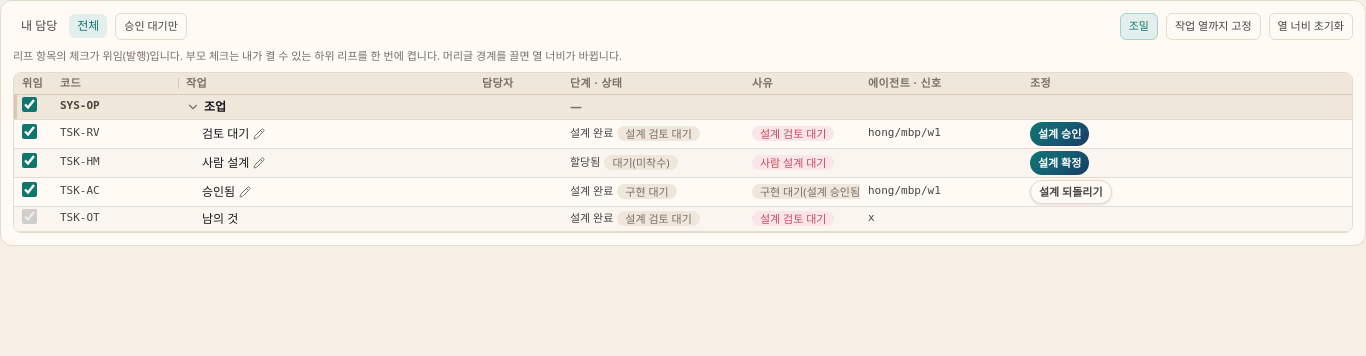
Test: DelegationTable — 설계 문구·설계 버튼(설계 상태 스펙 3절·7절) › 실패는 그 행 아래 오류로 보이고, 되돌리기 입력 줄은 닫지 않는다
Click the button "설계 되돌리기" at (1071, 192), box [1030,180,1112,204]
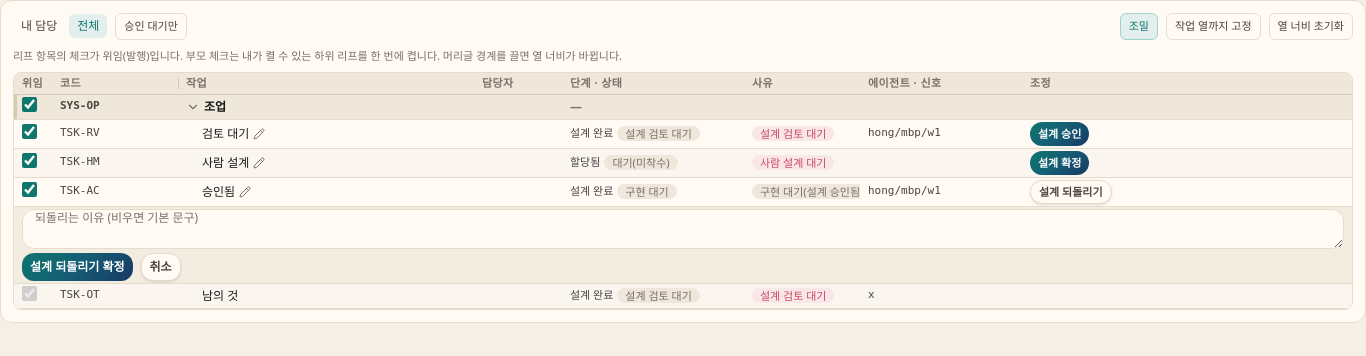
Click the button "설계 되돌리기 확정" at (77, 266), box [22,252,133,280]
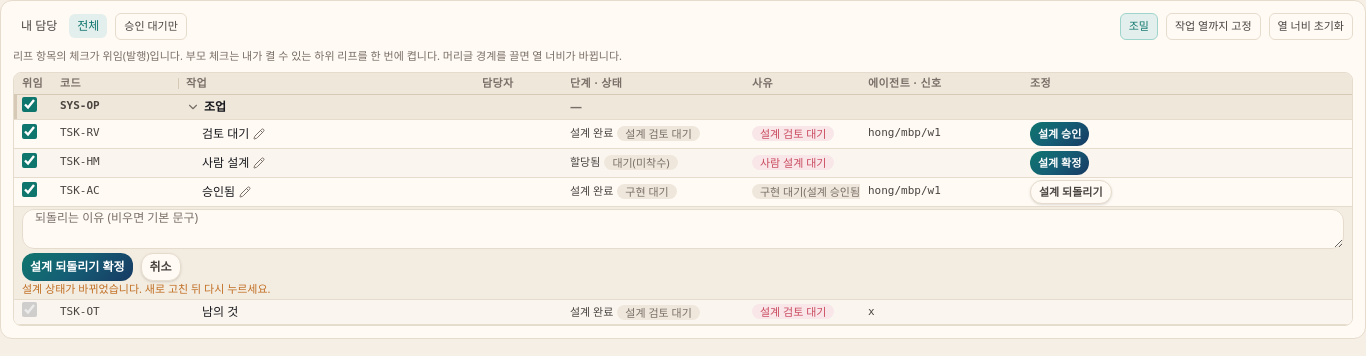
Expected: the text box with placeholder "되돌리는 이유 (비우면 기본 문구)" is shown, [22,208,1344,248]
Expected: the text "설계 상태가 바뀌었습니다. 새로 고친 뒤 다시 누르세요." is shown, [22,280,271,296]
